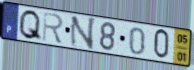0: (152, 27, 172, 62), (127, 26, 147, 56)
8: (98, 21, 117, 53)
N: (68, 15, 97, 51)
Q: (17, 9, 43, 43)
R: (41, 11, 65, 45)
